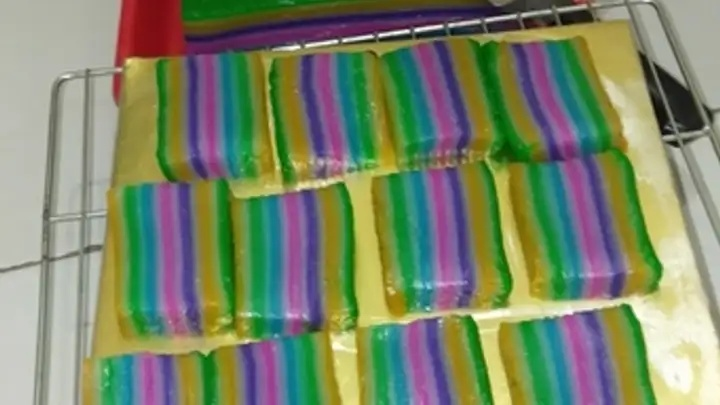kue_lapis_pelangi: (514, 153, 668, 300), (372, 158, 513, 311), (105, 181, 236, 330), (228, 192, 362, 330), (490, 34, 631, 158), (382, 32, 500, 167), (275, 44, 383, 190), (155, 56, 274, 183)
